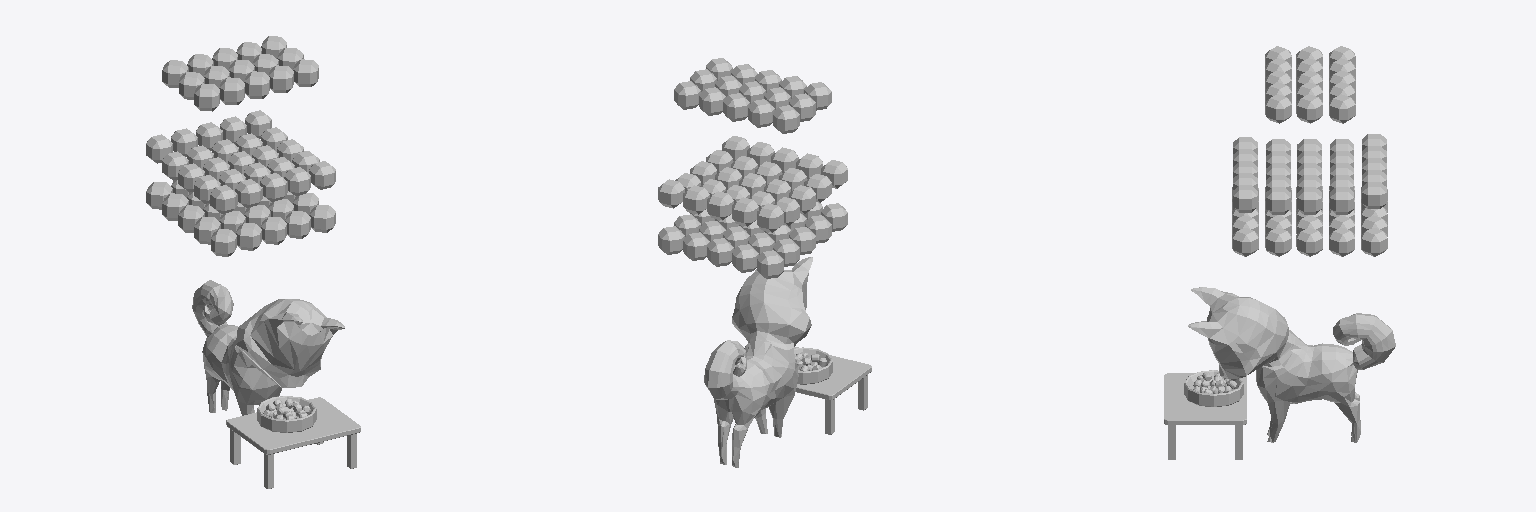
File: fullBowl_frame60.obj
3 views of the same model, side by side, from view 1: azimuth 30°, elevation 25°; view 2: azimuth 150°, elevation 25°; view 3: azimuth 270°, elevation 25° (orthographic).
Parts seen in each view (by area): view 1: newRigging1:BodzL1, Tisch:Tisch:pCube1, FressnapfFull:bulletRigidSetSolved1, FressnapfFull:pCube57, FressnapfFull:pCube45, FressnapfFull:pCube46, FressnapfFull:pCube36, FressnapfFull:pCube43, FressnapfFull:pCube50, FressnapfFull:pCube42, FressnapfFull:pCube48, FressnapfFull:pCube49 (+10 smaller); view 2: newRigging1:BodzL1, Tisch:Tisch:pCube1, FressnapfFull:bulletRigidSetSolved1, FressnapfFull:pCube51, FressnapfFull:pCube39, FressnapfFull:pCube64, FressnapfFull:pCube53, FressnapfFull:pCube55, FressnapfFull:pCube54, FressnapfFull:pCube37, FressnapfFull:pCube38, FressnapfFull:pCube41 (+8 smaller); view 3: newRigging1:BodzL1, Tisch:Tisch:pCube1, FressnapfFull:bulletRigidSetSolved1, FressnapfFull:pCube31, FressnapfFull:pCube55, FressnapfFull:pCube4, FressnapfFull:pCube41, FressnapfFull:pCube10, FressnapfFull:pCube36, FressnapfFull:pCube50, FressnapfFull:pCube30, FressnapfFull:pCube25 (+4 smaller).
Boxes of the visible parts, x1=… form: newRigging1:BodzL1: x1=192, y1=280, x2=344, y2=415; Tisch:Tisch:pCube1: x1=226, y1=397, x2=360, y2=488; FressnapfFull:bulletRigidSetSolved1: x1=257, y1=396, x2=316, y2=432; FressnapfFull:pCube57: x1=210, y1=185, x2=237, y2=213; FressnapfFull:pCube45: x1=194, y1=83, x2=219, y2=111; FressnapfFull:pCube46: x1=211, y1=229, x2=236, y2=256; FressnapfFull:pCube36: x1=293, y1=59, x2=318, y2=86; FressnapfFull:pCube43: x1=244, y1=71, x2=269, y2=98; FressnapfFull:pCube50: x1=309, y1=205, x2=335, y2=232; FressnapfFull:pCube42: x1=219, y1=77, x2=244, y2=104; FressnapfFull:pCube48: x1=261, y1=217, x2=286, y2=244; FressnapfFull:pCube49: x1=236, y1=223, x2=261, y2=250; newRigging1:BodzL1: x1=704, y1=257, x2=812, y2=467; Tisch:Tisch:pCube1: x1=794, y1=347, x2=871, y2=434; FressnapfFull:bulletRigidSetSolved1: x1=794, y1=347, x2=832, y2=384; FressnapfFull:pCube51: x1=757, y1=250, x2=783, y2=278; FressnapfFull:pCube39: x1=773, y1=105, x2=799, y2=133; FressnapfFull:pCube64: x1=757, y1=203, x2=783, y2=232; FressnapfFull:pCube53: x1=707, y1=238, x2=733, y2=266; FressnapfFull:pCube55: x1=658, y1=226, x2=684, y2=254; FressnapfFull:pCube54: x1=732, y1=244, x2=758, y2=272; FressnapfFull:pCube37: x1=748, y1=99, x2=774, y2=127; FressnapfFull:pCube38: x1=723, y1=93, x2=749, y2=121; FressnapfFull:pCube41: x1=674, y1=81, x2=700, y2=109; newRigging1:BodzL1: x1=1188, y1=287, x2=1395, y2=442; Tisch:Tisch:pCube1: x1=1164, y1=373, x2=1246, y2=459; FressnapfFull:bulletRigidSetSolved1: x1=1184, y1=370, x2=1243, y2=406; FressnapfFull:pCube31: x1=1296, y1=94, x2=1322, y2=123; FressnapfFull:pCube55: x1=1361, y1=228, x2=1387, y2=256; FressnapfFull:pCube4: x1=1296, y1=227, x2=1322, y2=256; FressnapfFull:pCube41: x1=1329, y1=94, x2=1355, y2=123; FressnapfFull:pCube10: x1=1265, y1=228, x2=1291, y2=256; FressnapfFull:pCube36: x1=1265, y1=94, x2=1291, y2=123; FressnapfFull:pCube50: x1=1232, y1=228, x2=1258, y2=256; FressnapfFull:pCube30: x1=1297, y1=187, x2=1321, y2=214; FressnapfFull:pCube25: x1=1266, y1=187, x2=1290, y2=214.
Bounding box in the file's own units: 5.73 × 16.34 × 9.44.